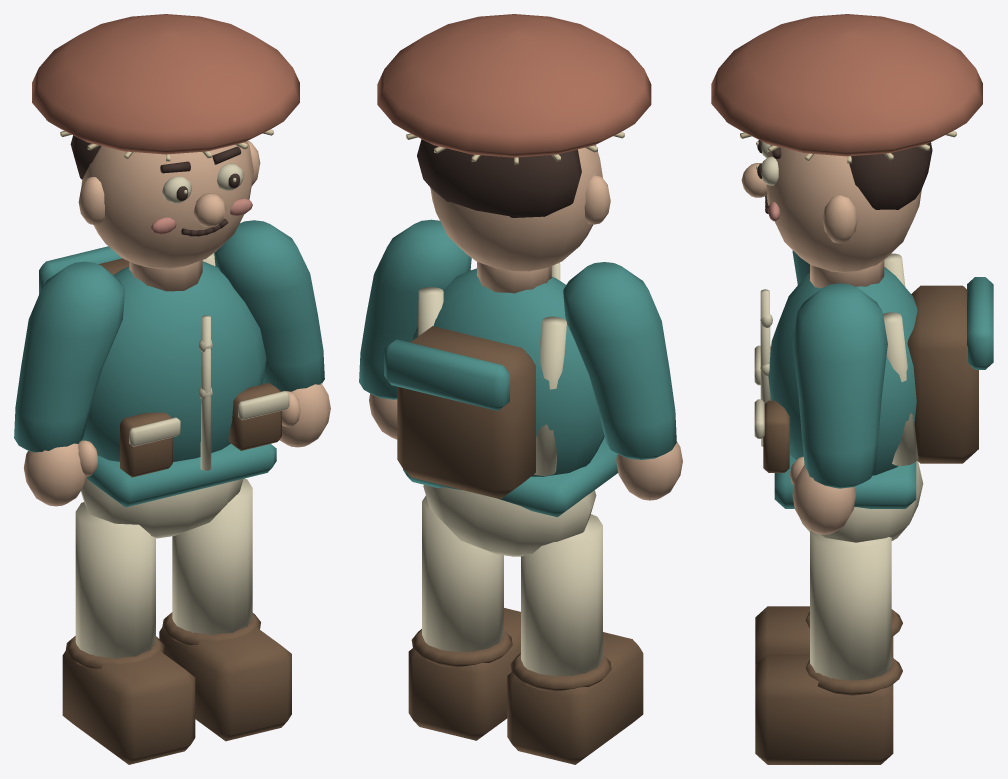
Rendered from world12-forest-wardens-prototype.glb.
3 views of the same model, side by side, from view 1: azimuth 30°, elevation 25°; view 2: azimuth 150°, elevation 25°; view 3: azimuth 270°, elevation 25° (orthographic). The views are drawn at different scales.
Parts seen in each view (by area): view 1: forest-warden-teal-head-cap, forest-warden-teal-body-teal, forest-warden-teal-stable-lower-ivory, forest-warden-teal-stable-lower-leather, forest-warden-teal-head-skin, forest-warden-teal-left-arm-teal, forest-warden-teal-right-arm-teal, forest-warden-teal-body-leather, forest-warden-teal-body-ivory, forest-warden-teal-left-arm-skin, forest-warden-teal-right-arm-skin, forest-warden-teal-head-hair (+3 smaller); view 2: forest-warden-teal-head-cap, forest-warden-teal-stable-lower-ivory, forest-warden-teal-body-teal, forest-warden-teal-stable-lower-leather, forest-warden-teal-left-arm-teal, forest-warden-teal-body-leather, forest-warden-teal-head-skin, forest-warden-teal-right-arm-teal, forest-warden-teal-head-hair, forest-warden-teal-body-ivory, forest-warden-teal-left-arm-skin, forest-warden-teal-shoulders-skin (+1 smaller); view 3: forest-warden-teal-head-cap, forest-warden-teal-stable-lower-leather, forest-warden-teal-right-arm-teal, forest-warden-teal-stable-lower-ivory, forest-warden-teal-body-teal, forest-warden-teal-body-leather, forest-warden-teal-head-skin, forest-warden-teal-body-ivory, forest-warden-teal-head-hair, forest-warden-teal-right-arm-skin, forest-warden-teal-shoulders-skin, forest-warden-teal-head-ivory.
Part boxes in pixels (left/top/right/bottom): forest-warden-teal-head-cap: left=32, top=14, right=299, bottom=154; forest-warden-teal-body-teal: left=39, top=246, right=276, bottom=507; forest-warden-teal-stable-lower-ivory: left=75, top=478, right=252, bottom=658; forest-warden-teal-stable-lower-leather: left=62, top=612, right=291, bottom=764; forest-warden-teal-head-skin: left=78, top=141, right=260, bottom=268; forest-warden-teal-left-arm-teal: left=14, top=261, right=125, bottom=452; forest-warden-teal-right-arm-teal: left=214, top=220, right=324, bottom=391; forest-warden-teal-body-leather: left=98, top=258, right=281, bottom=477; forest-warden-teal-body-ivory: left=129, top=253, right=289, bottom=470; forest-warden-teal-left-arm-skin: left=24, top=440, right=97, bottom=506; forest-warden-teal-right-arm-skin: left=279, top=383, right=330, bottom=447; forest-warden-teal-head-hair: left=70, top=135, right=241, bottom=236; forest-warden-teal-head-cap: left=377, top=14, right=651, bottom=157; forest-warden-teal-stable-lower-ivory: left=422, top=485, right=602, bottom=676; forest-warden-teal-body-teal: left=384, top=268, right=618, bottom=517; forest-warden-teal-stable-lower-leather: left=408, top=608, right=643, bottom=764; forest-warden-teal-left-arm-teal: left=563, top=262, right=676, bottom=459; forest-warden-teal-body-leather: left=397, top=326, right=535, bottom=499; forest-warden-teal-head-skin: left=430, top=145, right=610, bottom=271; forest-warden-teal-right-arm-teal: left=359, top=219, right=471, bottom=399; forest-warden-teal-head-hair: left=417, top=139, right=581, bottom=217; forest-warden-teal-body-ivory: left=417, top=262, right=566, bottom=475; forest-warden-teal-left-arm-skin: left=616, top=441, right=682, bottom=500; forest-warden-teal-shoulders-skin: left=477, top=262, right=551, bottom=293; forest-warden-teal-head-cap: left=711, top=14, right=982, bottom=156; forest-warden-teal-stable-lower-leather: left=755, top=606, right=902, bottom=764; forest-warden-teal-right-arm-teal: left=792, top=283, right=887, bottom=488; forest-warden-teal-stable-lower-ivory: left=800, top=461, right=923, bottom=680; forest-warden-teal-body-teal: left=768, top=267, right=993, bottom=508; forest-warden-teal-body-leather: left=763, top=285, right=978, bottom=472; forest-warden-teal-head-skin: left=741, top=147, right=921, bottom=272; forest-warden-teal-body-ivory: left=754, top=253, right=918, bottom=465; forest-warden-teal-head-hair: left=757, top=140, right=932, bottom=213; forest-warden-teal-right-arm-skin: left=789, top=456, right=855, bottom=534; forest-warden-teal-shoulders-skin: left=810, top=260, right=884, bottom=288; forest-warden-teal-head-ivory: left=756, top=141, right=778, bottom=185.
Size of the model in its own units: 0.998 by 2.17 by 0.7976.
